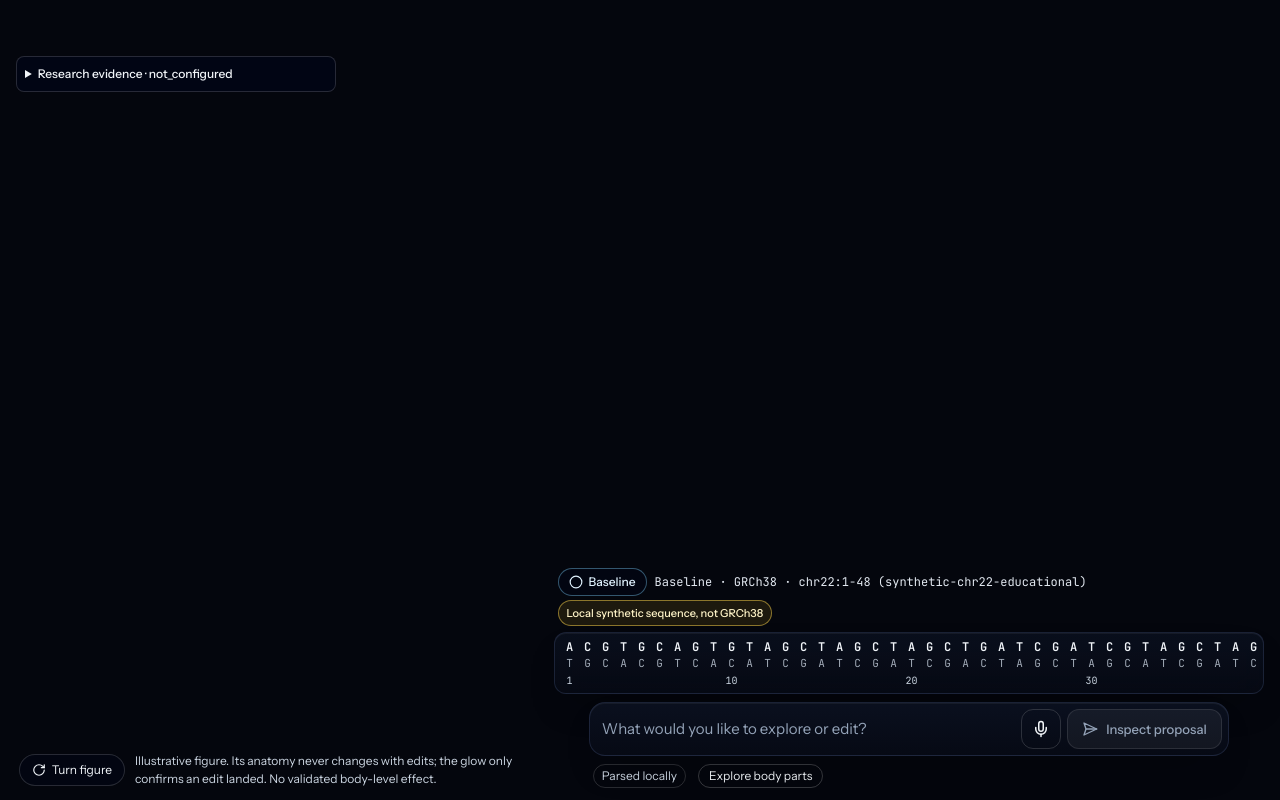
explore and trait goals do not mutate the draft › reduced motion still drafts a precise edit
In the field with test id "prompt-input": [808, 729] box [602,712,1015,746], type "change base 4 to A"
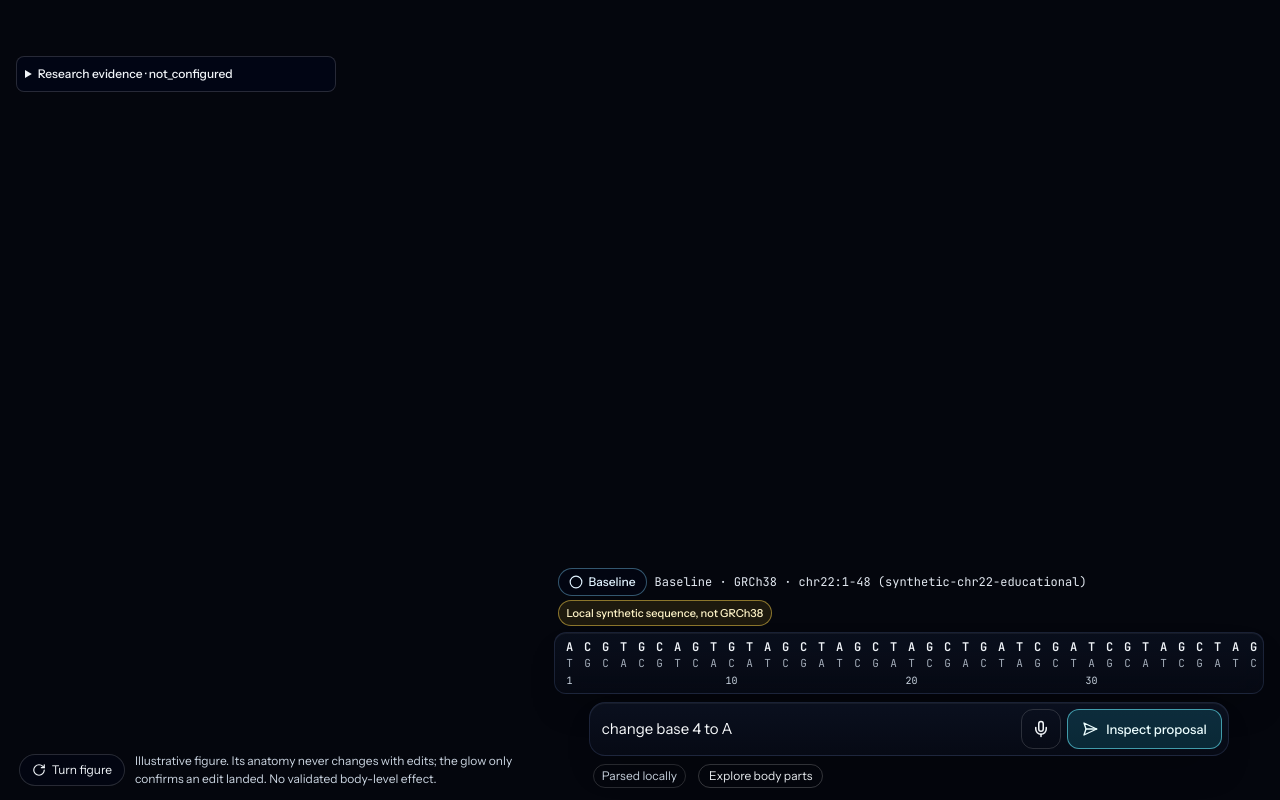
Click the button with test id "inspect-proposal": [1144, 729] box [1067,709,1222,749]
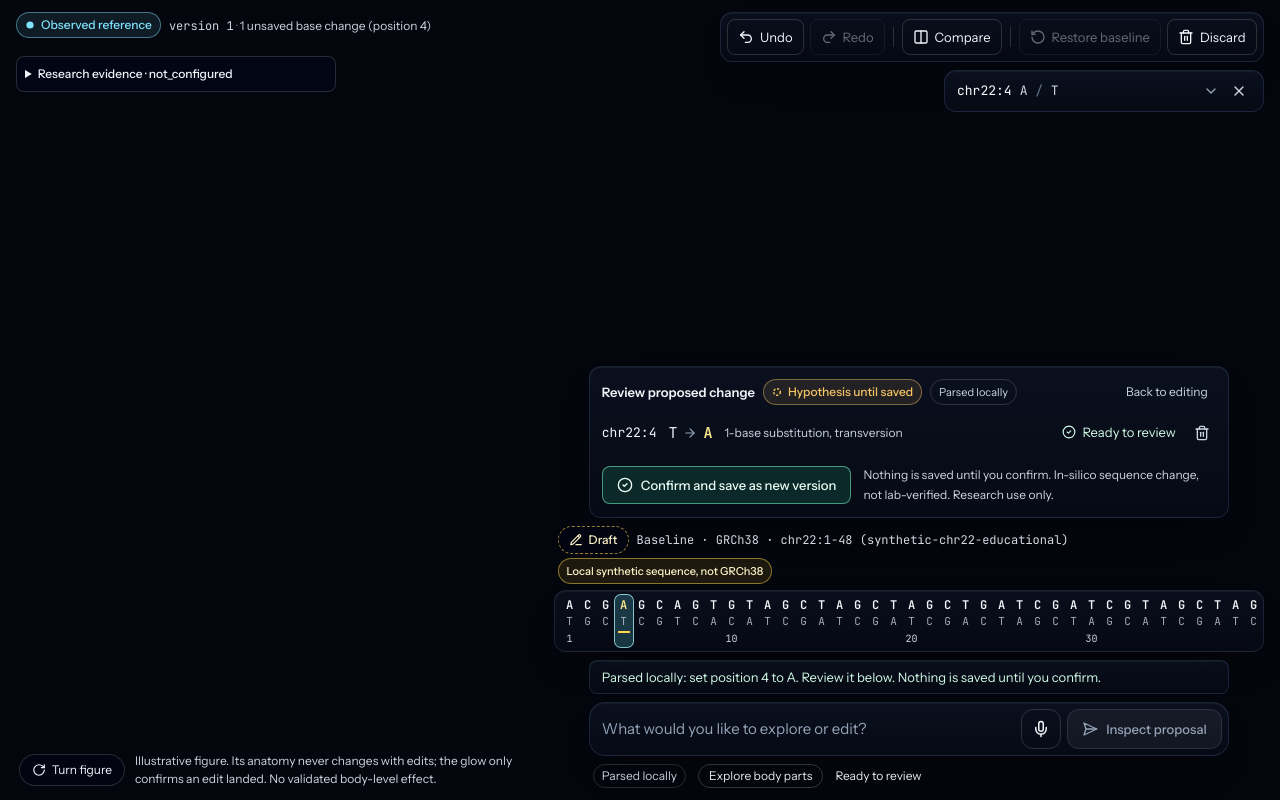
Expected: the element with test id "proposal-preview" is shown, [589,366,1229,518]
